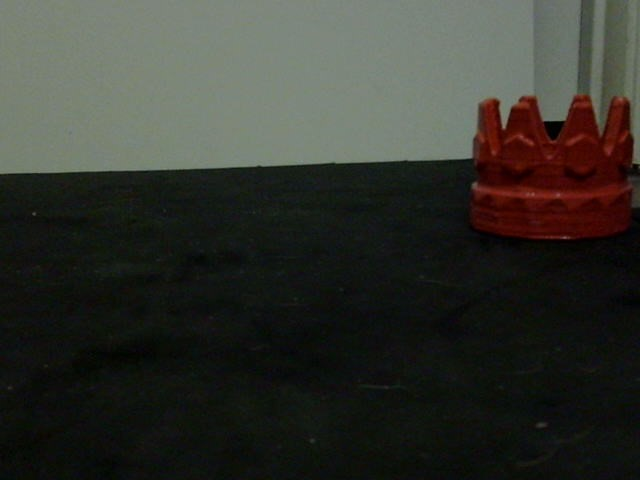crown: (464, 92, 636, 241)
